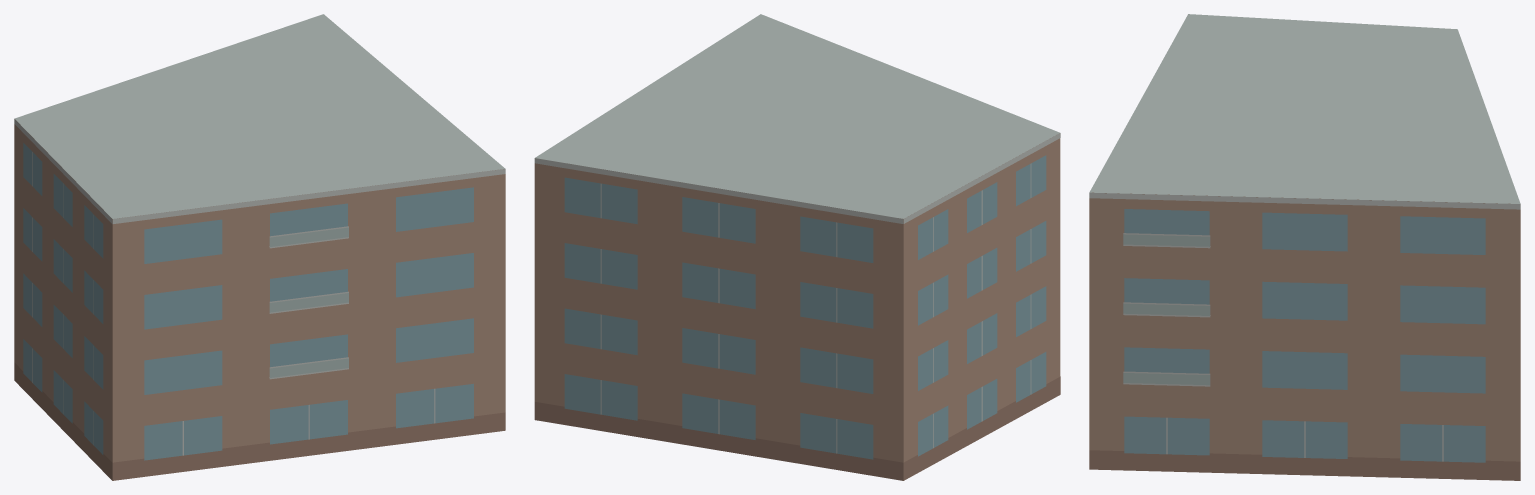
Rendered from residential-501ed815-e6c2-459e-8955-3d4f511cfa14.glb.
The picture shows the model from 3 angles, left to right: view 1: azimuth 30°, elevation 25°; view 2: azimuth 150°, elevation 25°; view 3: azimuth 270°, elevation 25°; orthographic projection. The views are drawn at different scales.
Visible parts, largest first — view 1: residential-501ed815-e6c2-459e-8955-3d4f511cfa14.tmp; view 2: residential-501ed815-e6c2-459e-8955-3d4f511cfa14.tmp; view 3: residential-501ed815-e6c2-459e-8955-3d4f511cfa14.tmp.
Part boxes in pixels (x1,y1,x2,y2): residential-501ed815-e6c2-459e-8955-3d4f511cfa14.tmp: (14,14,505,480); residential-501ed815-e6c2-459e-8955-3d4f511cfa14.tmp: (534,14,1060,480); residential-501ed815-e6c2-459e-8955-3d4f511cfa14.tmp: (1089,14,1520,480).
Bounding box in the file's own units: 17.97 × 12.2 × 17.24.
